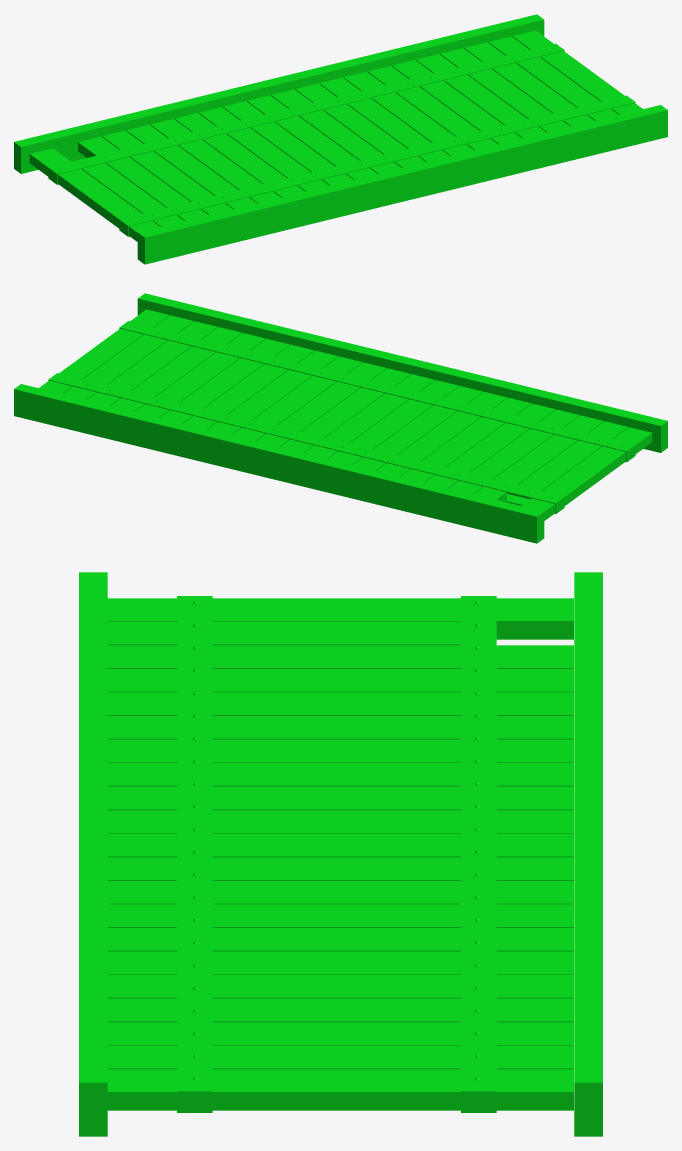
The picture shows the model from 3 angles, top to bottom: view 1: azimuth 30°, elevation 25°; view 2: azimuth 150°, elevation 25°; view 3: azimuth 270°, elevation 25°; orthographic projection. The views are drawn at different scales.
Parts seen in each view (by area): view 1: Bridge.001; view 2: Bridge.001; view 3: Bridge.001.
Boxes of the visible parts, left/top/right/bottom form: Bridge.001: left=14, top=14, right=667, bottom=264; Bridge.001: left=14, top=293, right=667, bottom=543; Bridge.001: left=79, top=572, right=602, bottom=1136.
Bounding box in the file's own units: 991 × 48.8 × 430.
